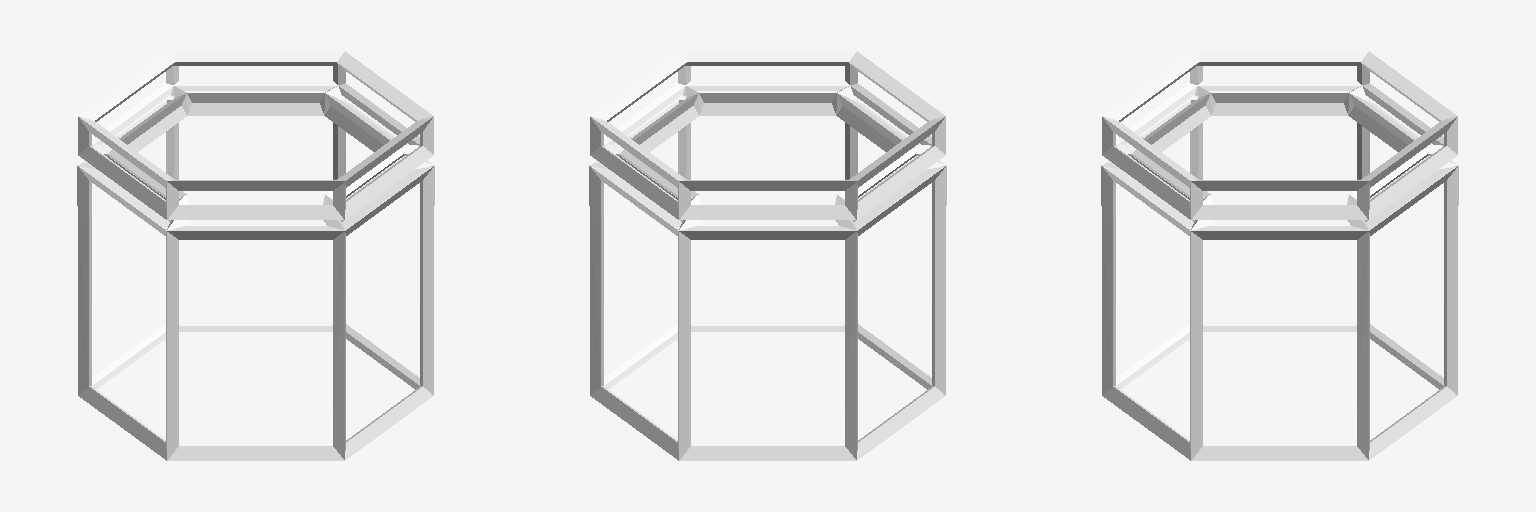
The picture shows the model from 3 angles: view 1: azimuth 30°, elevation 25°; view 2: azimuth 150°, elevation 25°; view 3: azimuth 270°, elevation 25°; orthographic projection.
Parts seen in each view (by area): view 1: bottle_円柱; view 2: bottle_円柱; view 3: bottle_円柱.
Boxes of the visible parts, x1,y1,x2,y2 form: bottle_円柱: [77, 51, 434, 460]; bottle_円柱: [589, 51, 946, 460]; bottle_円柱: [1101, 51, 1458, 460].
Size of the model in its own units: 1.81 by 1.8 by 2.09.
Materials: 1 (1 with a texture image).